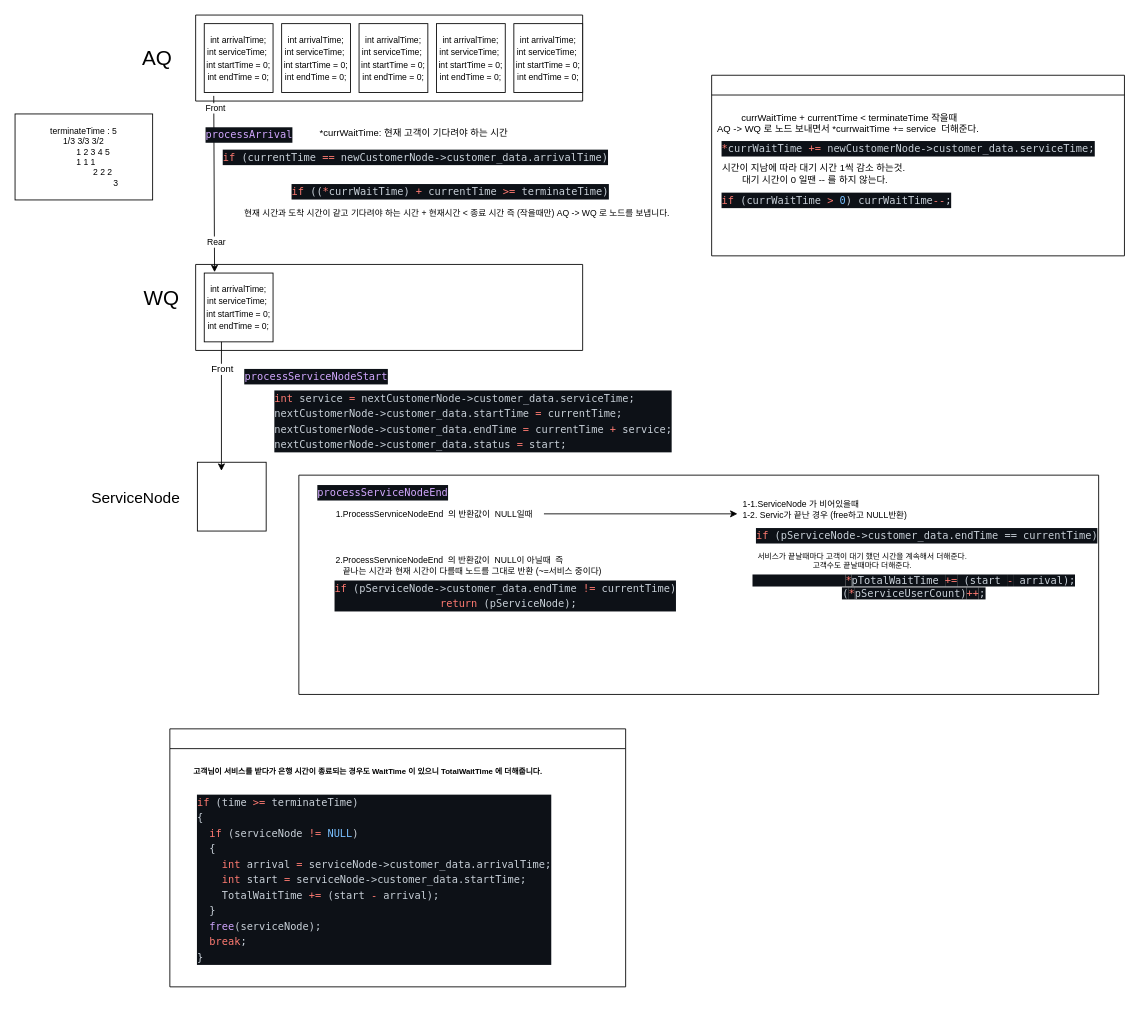
The diagram is 1140 pixels wide and 1023 high, and some of its shapes have lost their labels. Each missing label, with the box of its shape:
currWaitTime 계산: (711, 74, 1124, 256)
ServiceNode != NULL 인 상태로 업무 시간이 마감되는경우: (169, 728, 626, 987)
start = currenttime end = current + service status = start: (197, 461, 266, 531)
